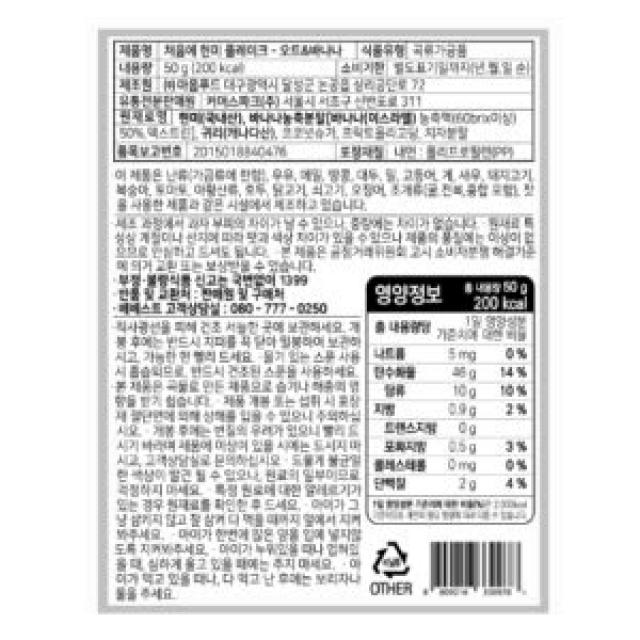Nutrition Label: (356, 267, 547, 534)
